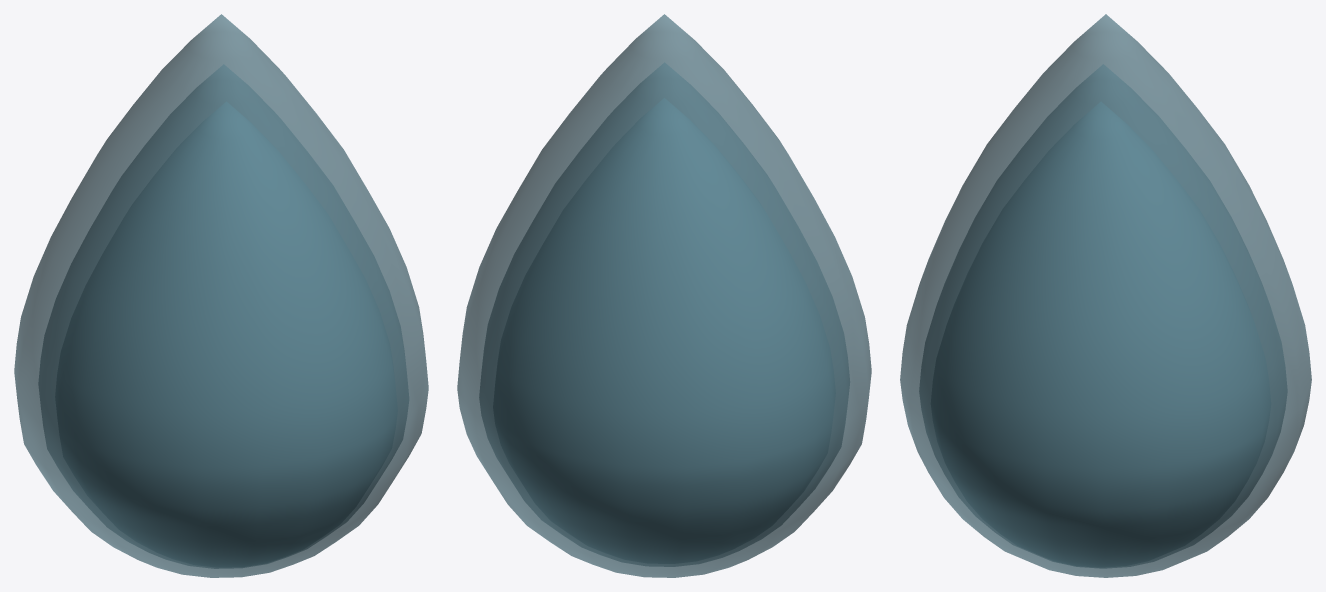
Rendered from Collecatble.fbx.
3 renders of one model, left to right at view 1: azimuth 30°, elevation 25°; view 2: azimuth 150°, elevation 25°; view 3: azimuth 270°, elevation 25°, orthographic.
Parts seen in each view (by area): view 1: pSphere4; view 2: pSphere4; view 3: pSphere4.
Part boxes in pixels (box(x1,y1,x2,y2)): pSphere4: box(14, 14, 428, 577); pSphere4: box(457, 14, 871, 577); pSphere4: box(900, 14, 1311, 577).
Size of the model in its own units: 2.38 by 3.42 by 2.34.
